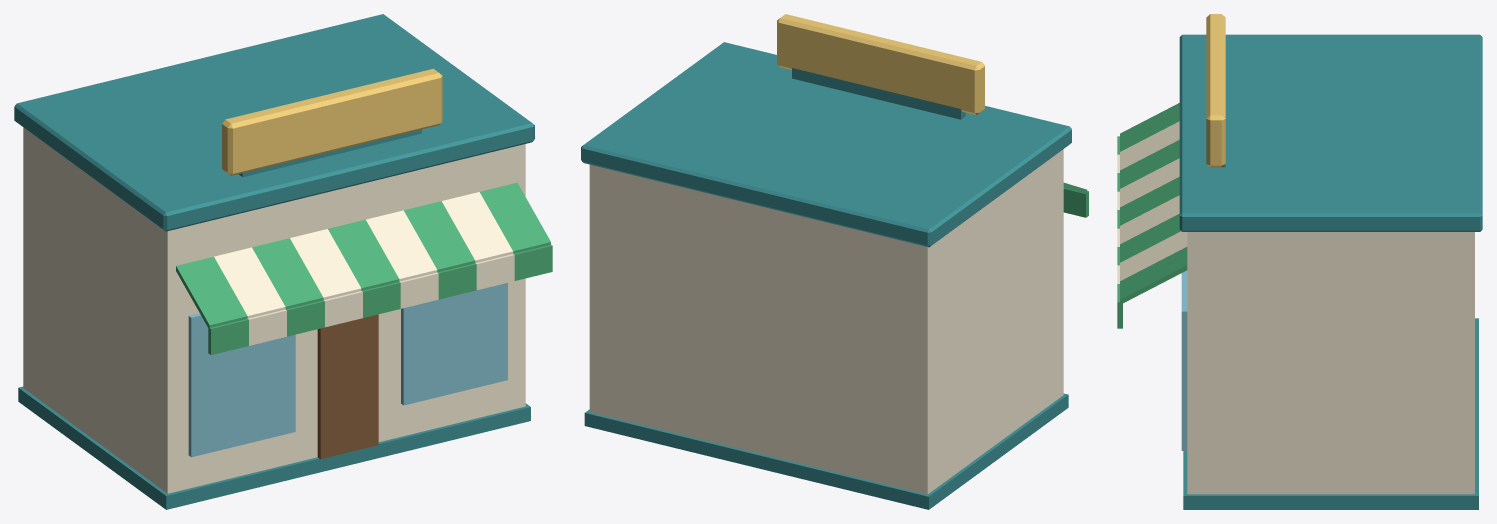
The model's file is restaurant.glb.
3 renders of one model, left to right at view 1: azimuth 30°, elevation 25°; view 2: azimuth 150°, elevation 25°; view 3: azimuth 270°, elevation 25°, orthographic. The views are drawn at different scales.
Visible parts, largest first — view 1: restaurant; view 2: restaurant; view 3: restaurant.
Part boxes in pixels (x1,y1,x2,y2): restaurant: [14, 14, 552, 509]; restaurant: [581, 14, 1088, 509]; restaurant: [1117, 14, 1482, 509].
Size of the model in its own units: 0.446 by 0.41 by 0.381.
